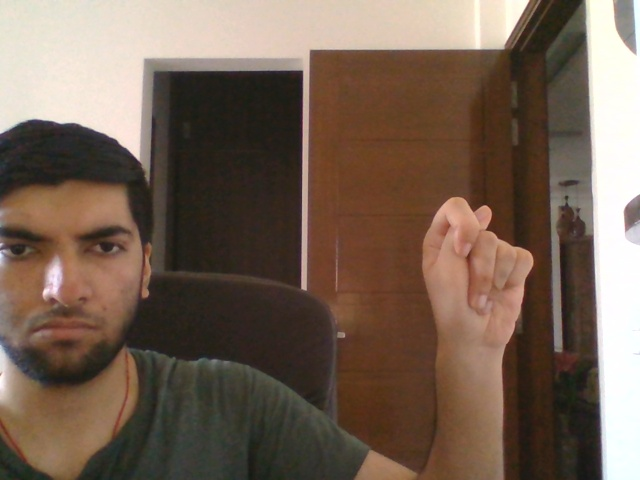LetterT: (419, 194, 534, 353)
